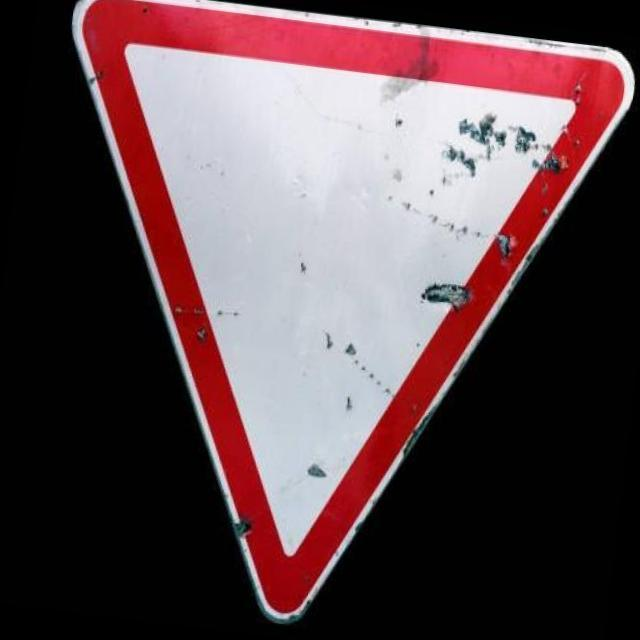obstructed_road_sign: (75, 0, 634, 619)
